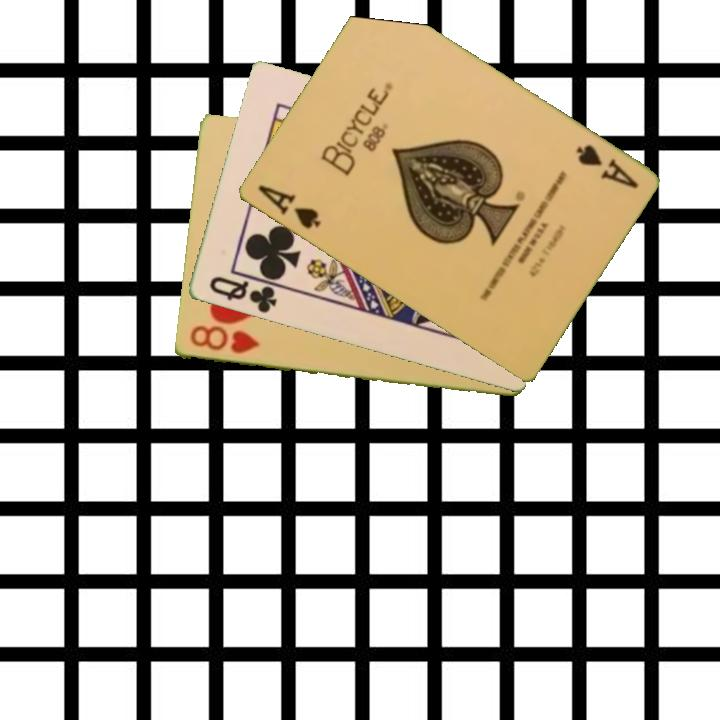8h: (186, 323, 261, 357)
As: (571, 141, 641, 192), (254, 181, 323, 232)
Qc: (205, 270, 285, 317)
